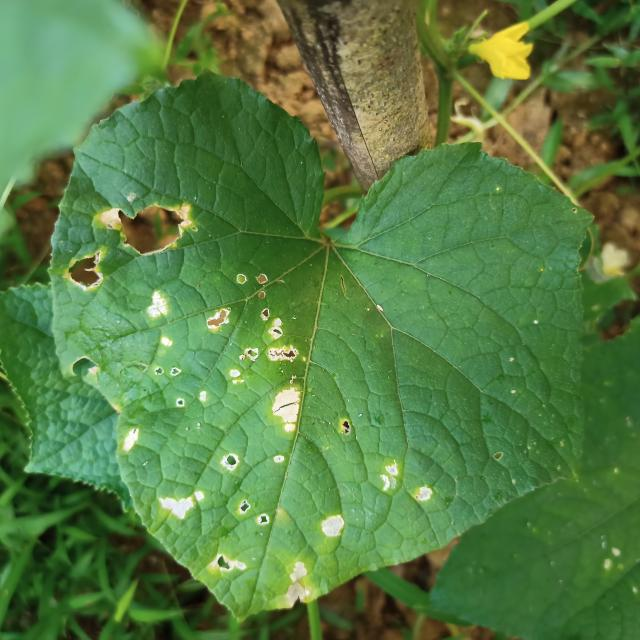disease_cucumber: (204, 268, 307, 365), (93, 189, 202, 260), (264, 373, 308, 439), (371, 461, 437, 505), (143, 287, 184, 352), (62, 250, 110, 295), (156, 486, 207, 524), (282, 558, 314, 608), (234, 496, 273, 528), (210, 547, 249, 577), (314, 508, 348, 542), (118, 423, 142, 458), (220, 452, 245, 473), (227, 370, 248, 388)
